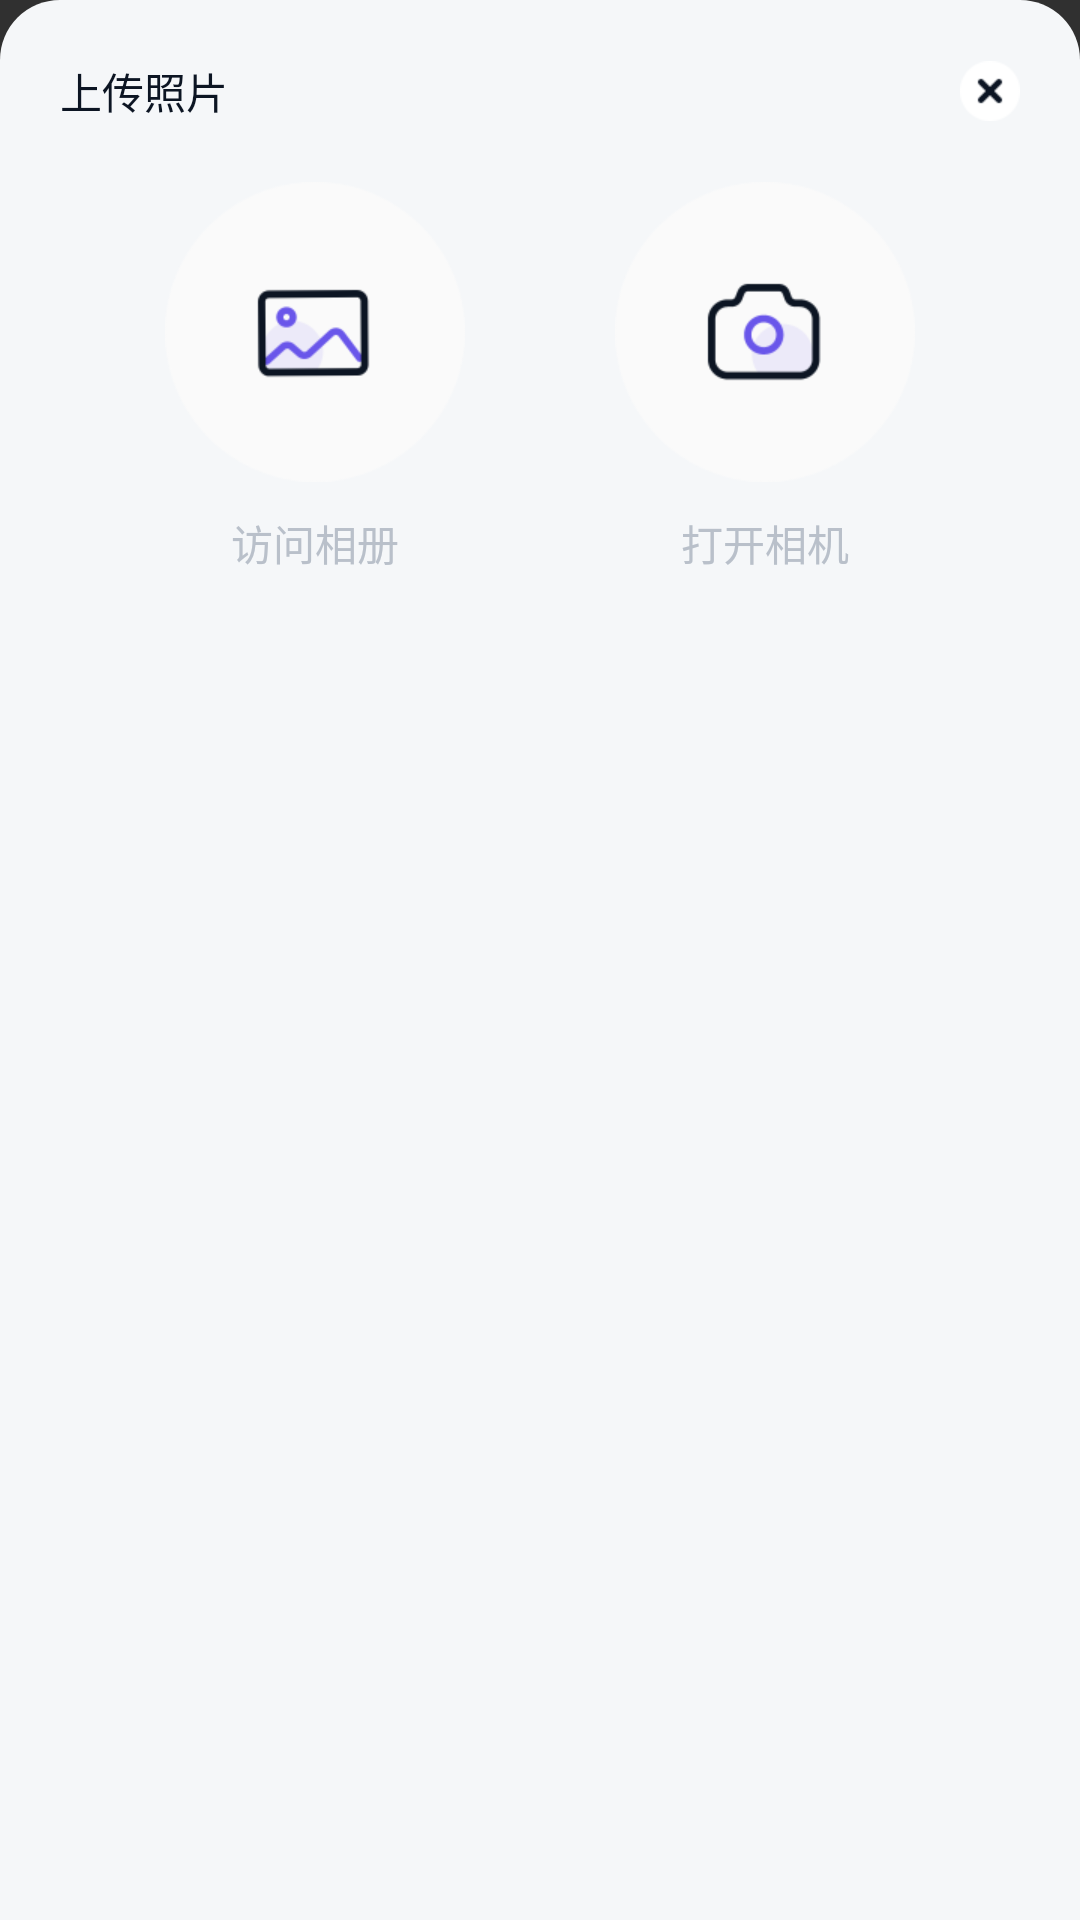

Where icons sit on this 1080x1920 app screen, as [left=x1, top=y1, right=x2, bottom=y2]:
camera: [left=707, top=283, right=821, bottom=380]
close: [left=977, top=78, right=1003, bottom=104]
photo: [left=257, top=289, right=369, bottom=377]
